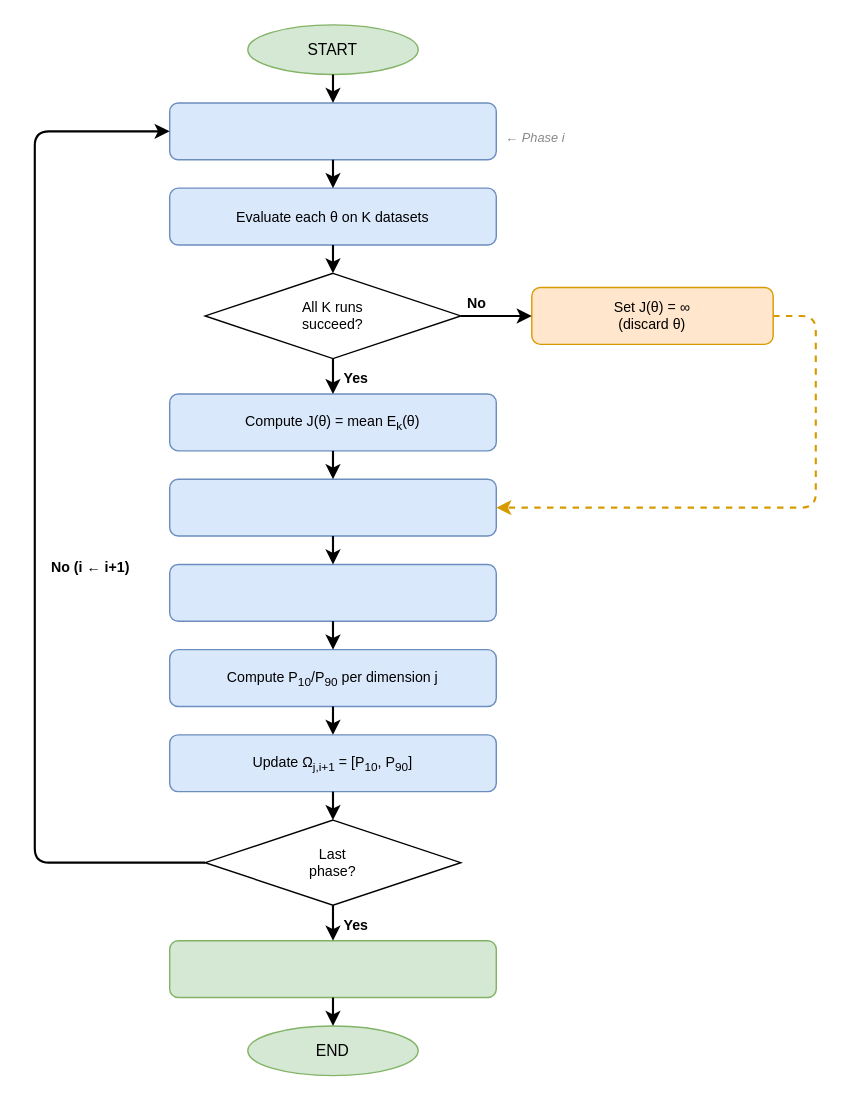
Some shapes in this 853 by 1101 pixel diagram are drawn without their labels. Each missing label, with the box of its shape:
Keep top P i %: elite set Θ elite: (168, 563, 496, 621)
LHS: sample N i configurations θ: (168, 102, 496, 160)
Output Θ* = argmin J(θ): (168, 939, 496, 998)
Rank surviving configs by J(θ): (168, 478, 496, 536)
